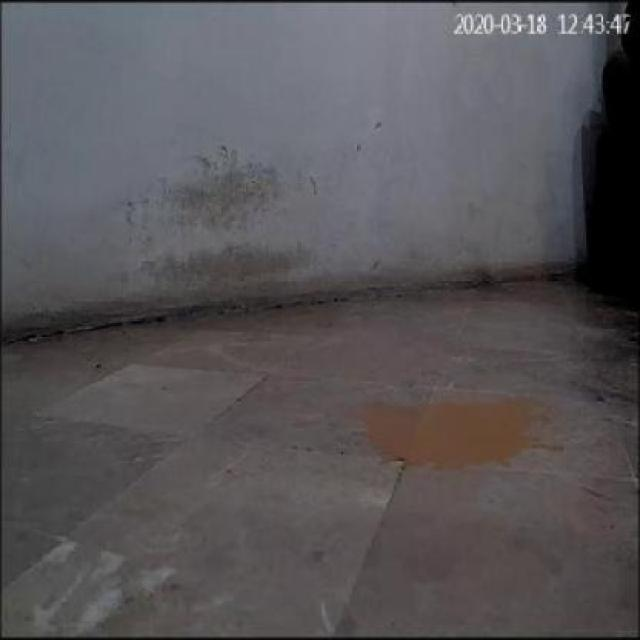spillage: (362, 400, 551, 470)
